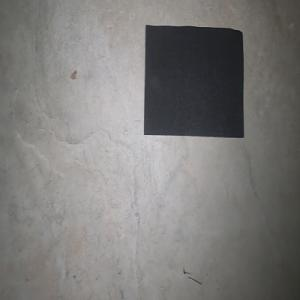PaintChip: (143, 24, 243, 138)
